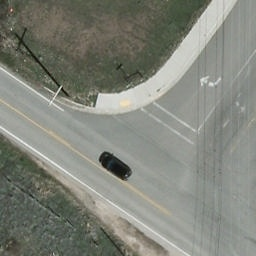car: (95, 152, 132, 179)
